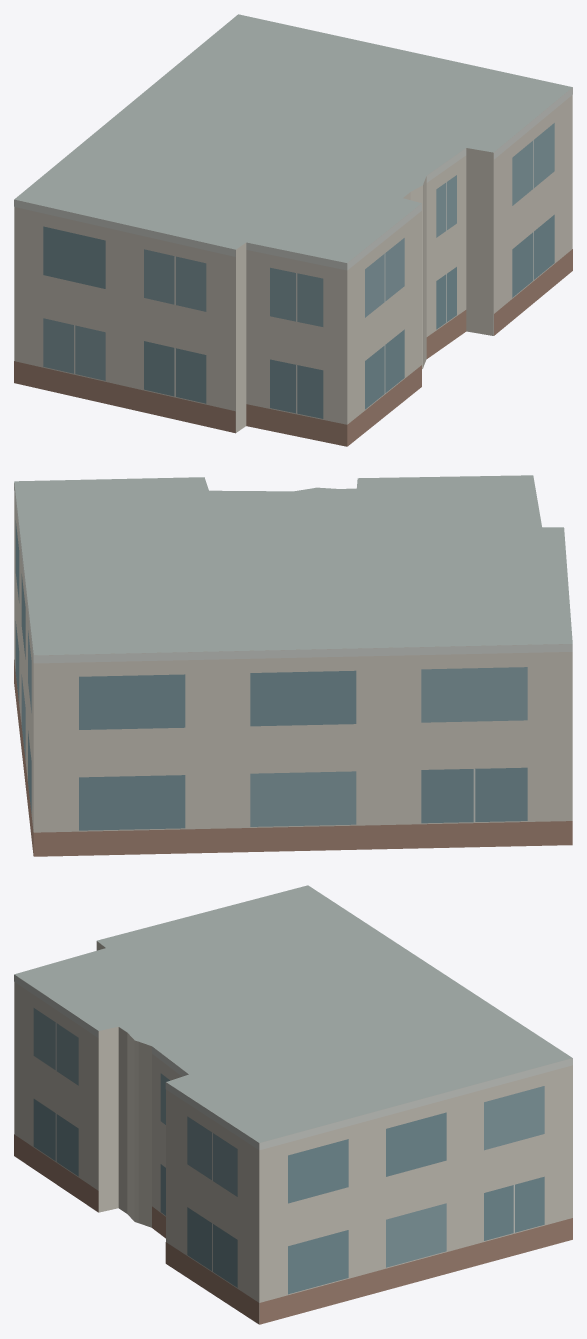
Rendered from survey-upis-32619281.glb.
The picture shows the model from 3 angles, top to bottom: view 1: azimuth 30°, elevation 25°; view 2: azimuth 150°, elevation 25°; view 3: azimuth 270°, elevation 25°; orthographic projection. The views are drawn at different scales.
Visible parts, largest first — view 1: survey-upis-32619281.tmp; view 2: survey-upis-32619281.tmp; view 3: survey-upis-32619281.tmp.
Boxes of the visible parts, x1,y1,x2,y2 form: survey-upis-32619281.tmp: (14,14,572,446); survey-upis-32619281.tmp: (14,475,572,856); survey-upis-32619281.tmp: (14,885,572,1324).
Bounding box in the file's own units: 18.59 × 6.1 × 17.02.
